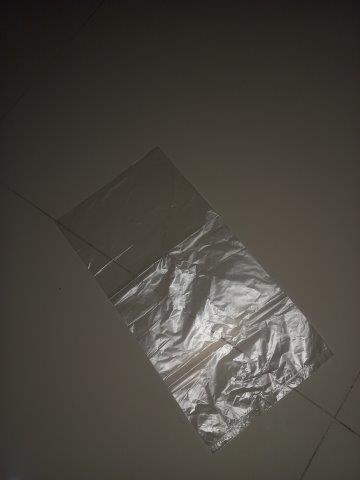plastik: (56, 147, 328, 449)
